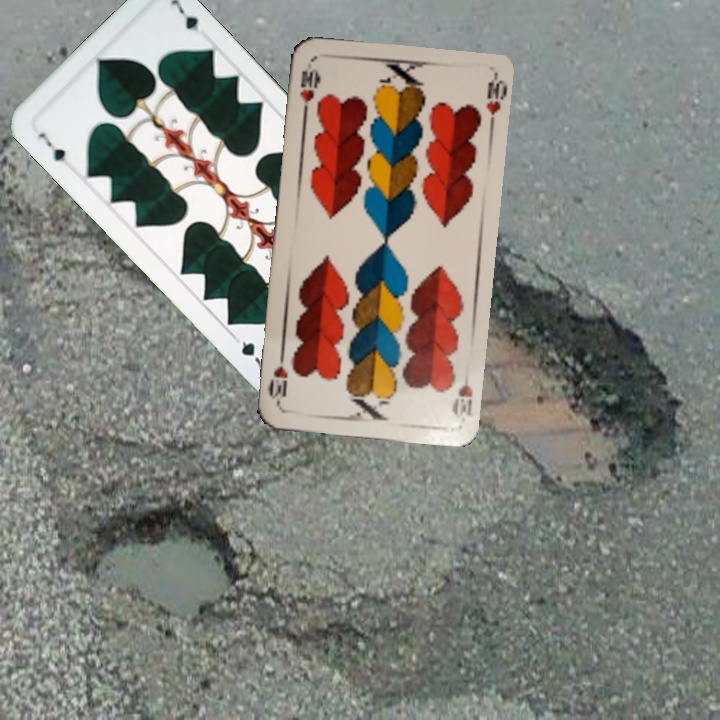G7: (34, 128, 69, 165)
H10: (447, 365, 475, 421), (295, 65, 321, 117)
